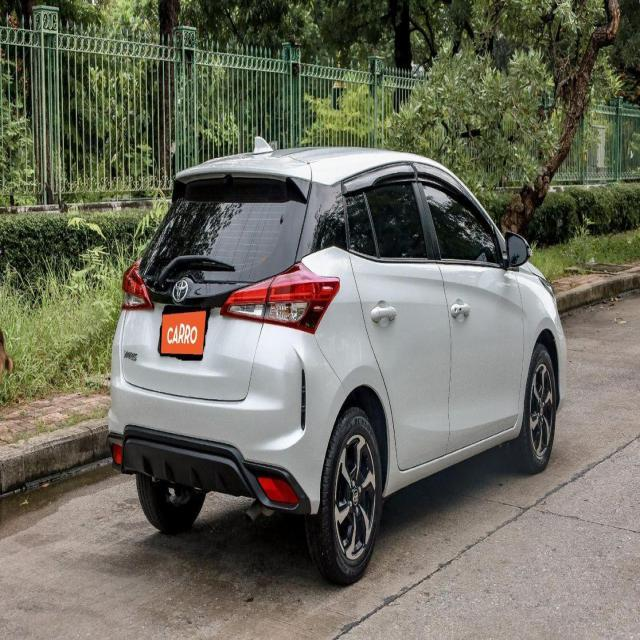Hatchback: (107, 139, 568, 589)
